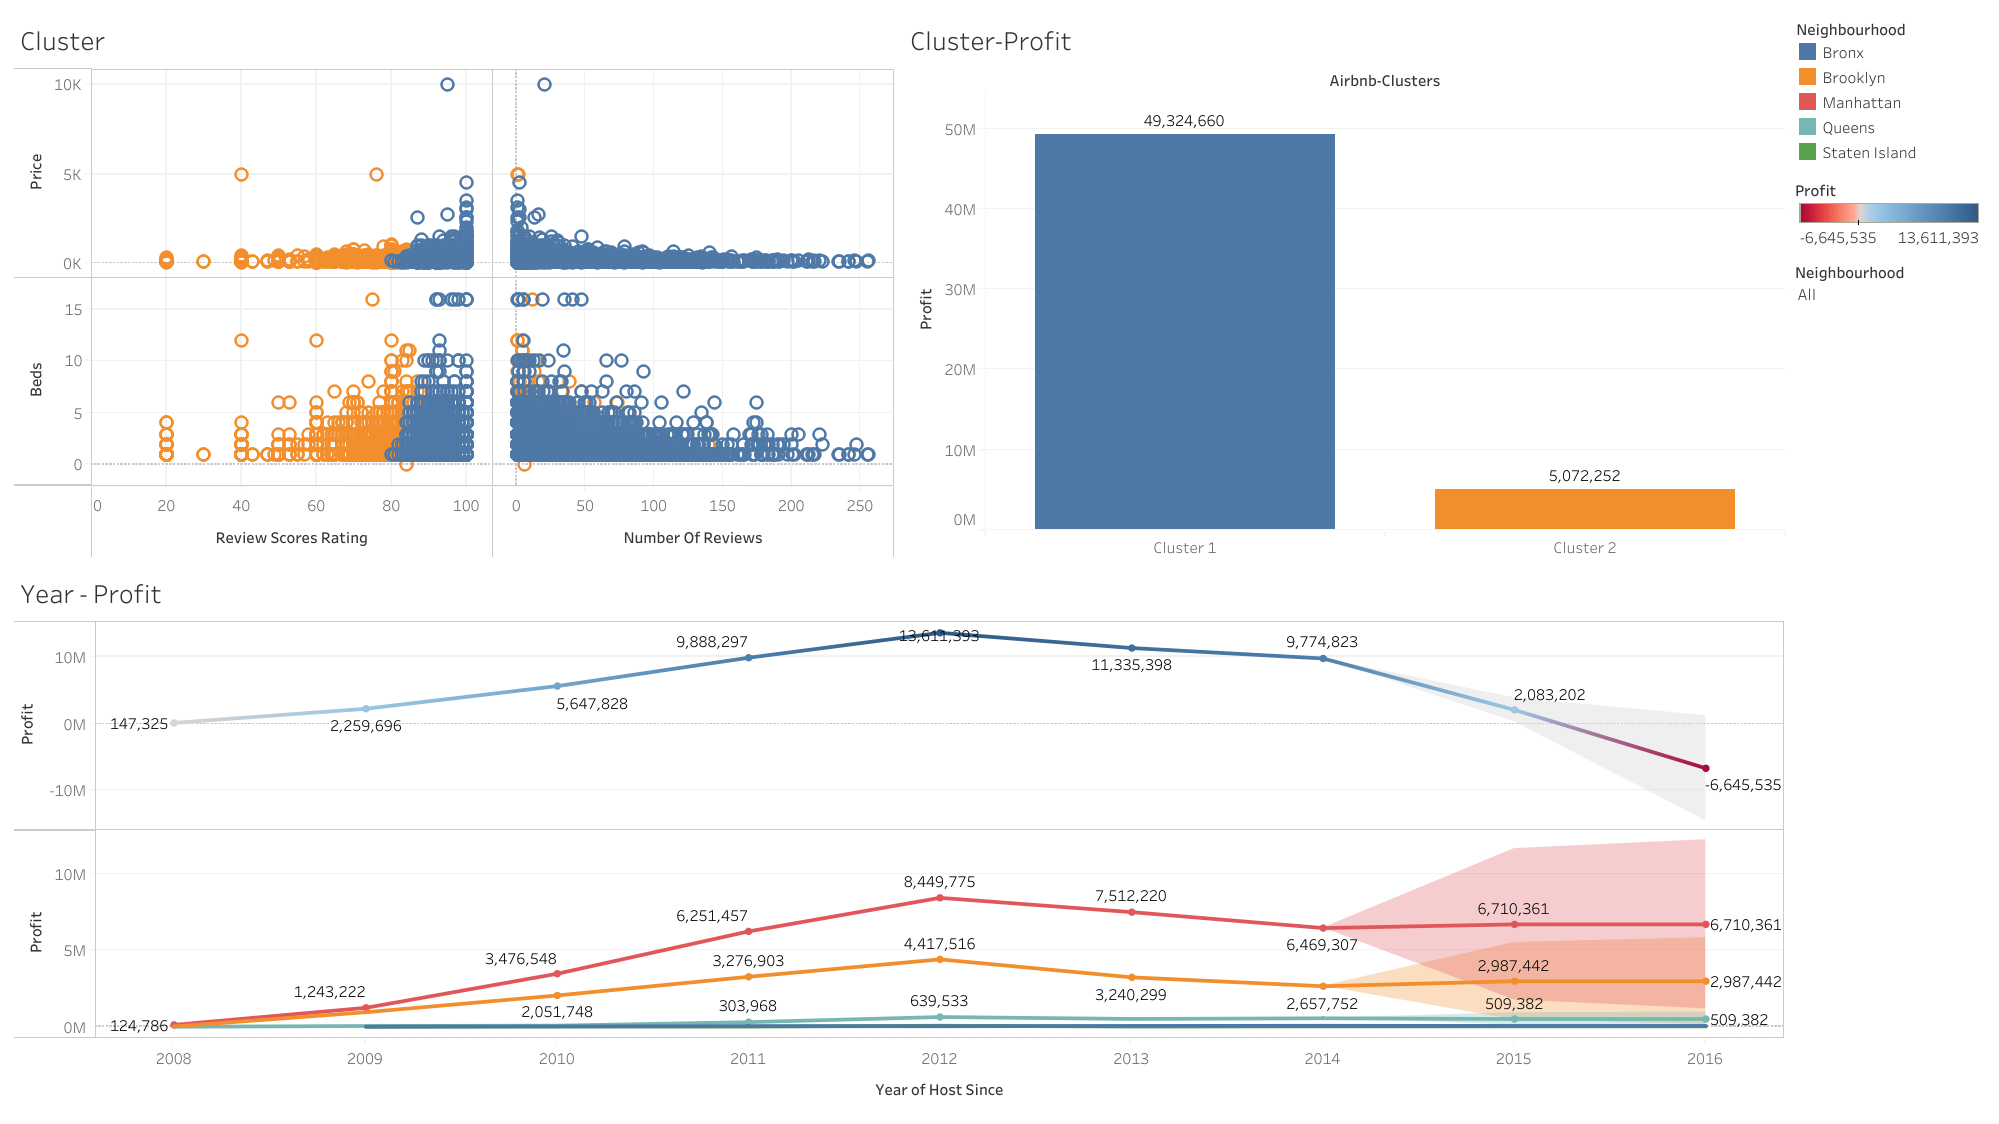

This screenshot's page, from the dashboard's own definition file:
{"tool":"tableau","page":{"name":"MED Beds - Cluster-Profit","canvas":[1600,900],"ordinal":0},"visuals":[{"type":"worksheet","title":"Cluster","mark":"Automatic","rows":["Price","Beds"],"cols":["Review Scores Rating","Number Of Reviews"],"box":[8,8,712,442]},{"type":"worksheet","title":"Cluster-Profit","mark":"Automatic","rows":["Calculation_667095754605002752"],"box":[720,8,712,442]},{"type":"legend","title":"Cluster","param":"[federated.0j0w5ul0jr4dh91d4lxyd0nrqbqj].[none:AdhocCluster:3:ok]","box":[1432,8,160,72]},{"type":"worksheet","title":"Year - Profit","mark":"Automatic","rows":["Calculation_667095754605002752"],"cols":["Host Since"],"box":[8,450,1424,442]}]}

Visuals, with their boxes in screenshot pixels (x1, y1, x2, y2), scaled from the page's 1600x900 canvas onto the 1999x1124 screenshot:
"Cluster" worksheet: pyautogui.locateOnScreen(10, 10, 900, 562)
"Cluster-Profit" worksheet: pyautogui.locateOnScreen(900, 10, 1789, 562)
"Cluster" legend: pyautogui.locateOnScreen(1789, 10, 1989, 100)
"Year - Profit" worksheet: pyautogui.locateOnScreen(10, 562, 1789, 1114)
